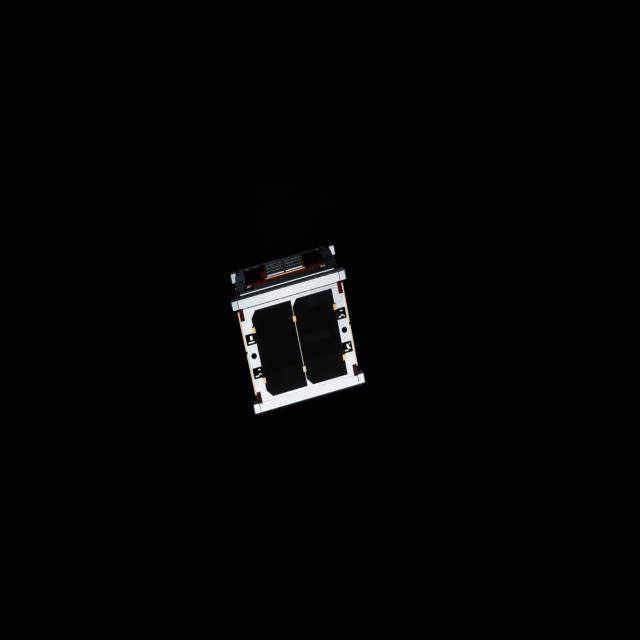satellite: (226, 241, 374, 425)
